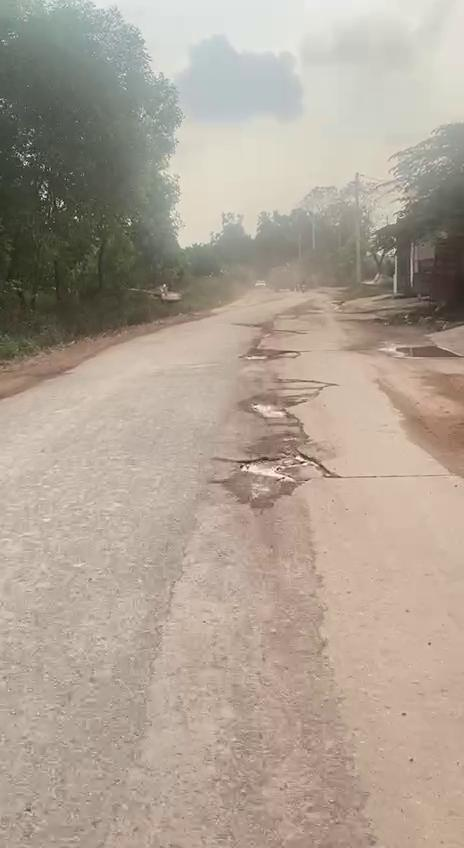pothole: (237, 448, 337, 486), (241, 384, 302, 428), (239, 344, 284, 364)
